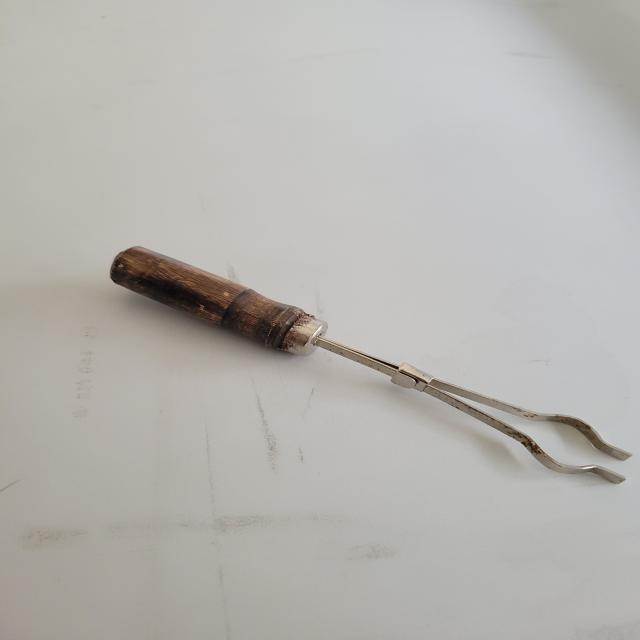TestTube_Holder: (93, 211, 640, 505)
